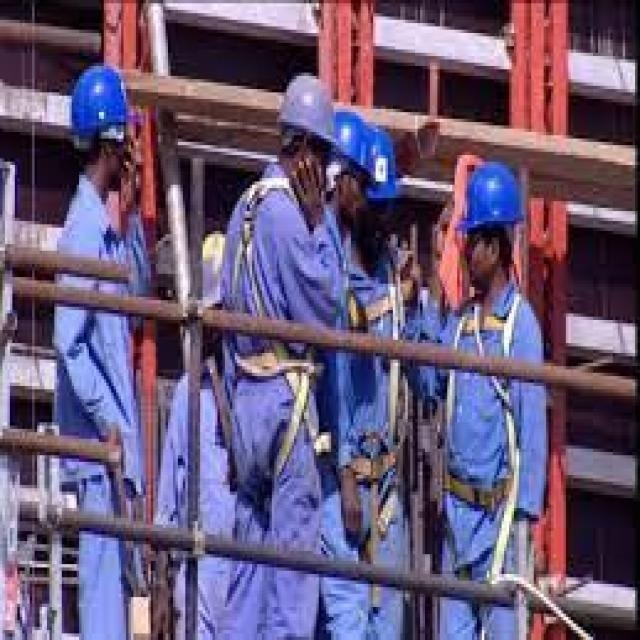Arnes_seguridad: (224, 173, 330, 512), (438, 290, 527, 607), (327, 246, 409, 540)
